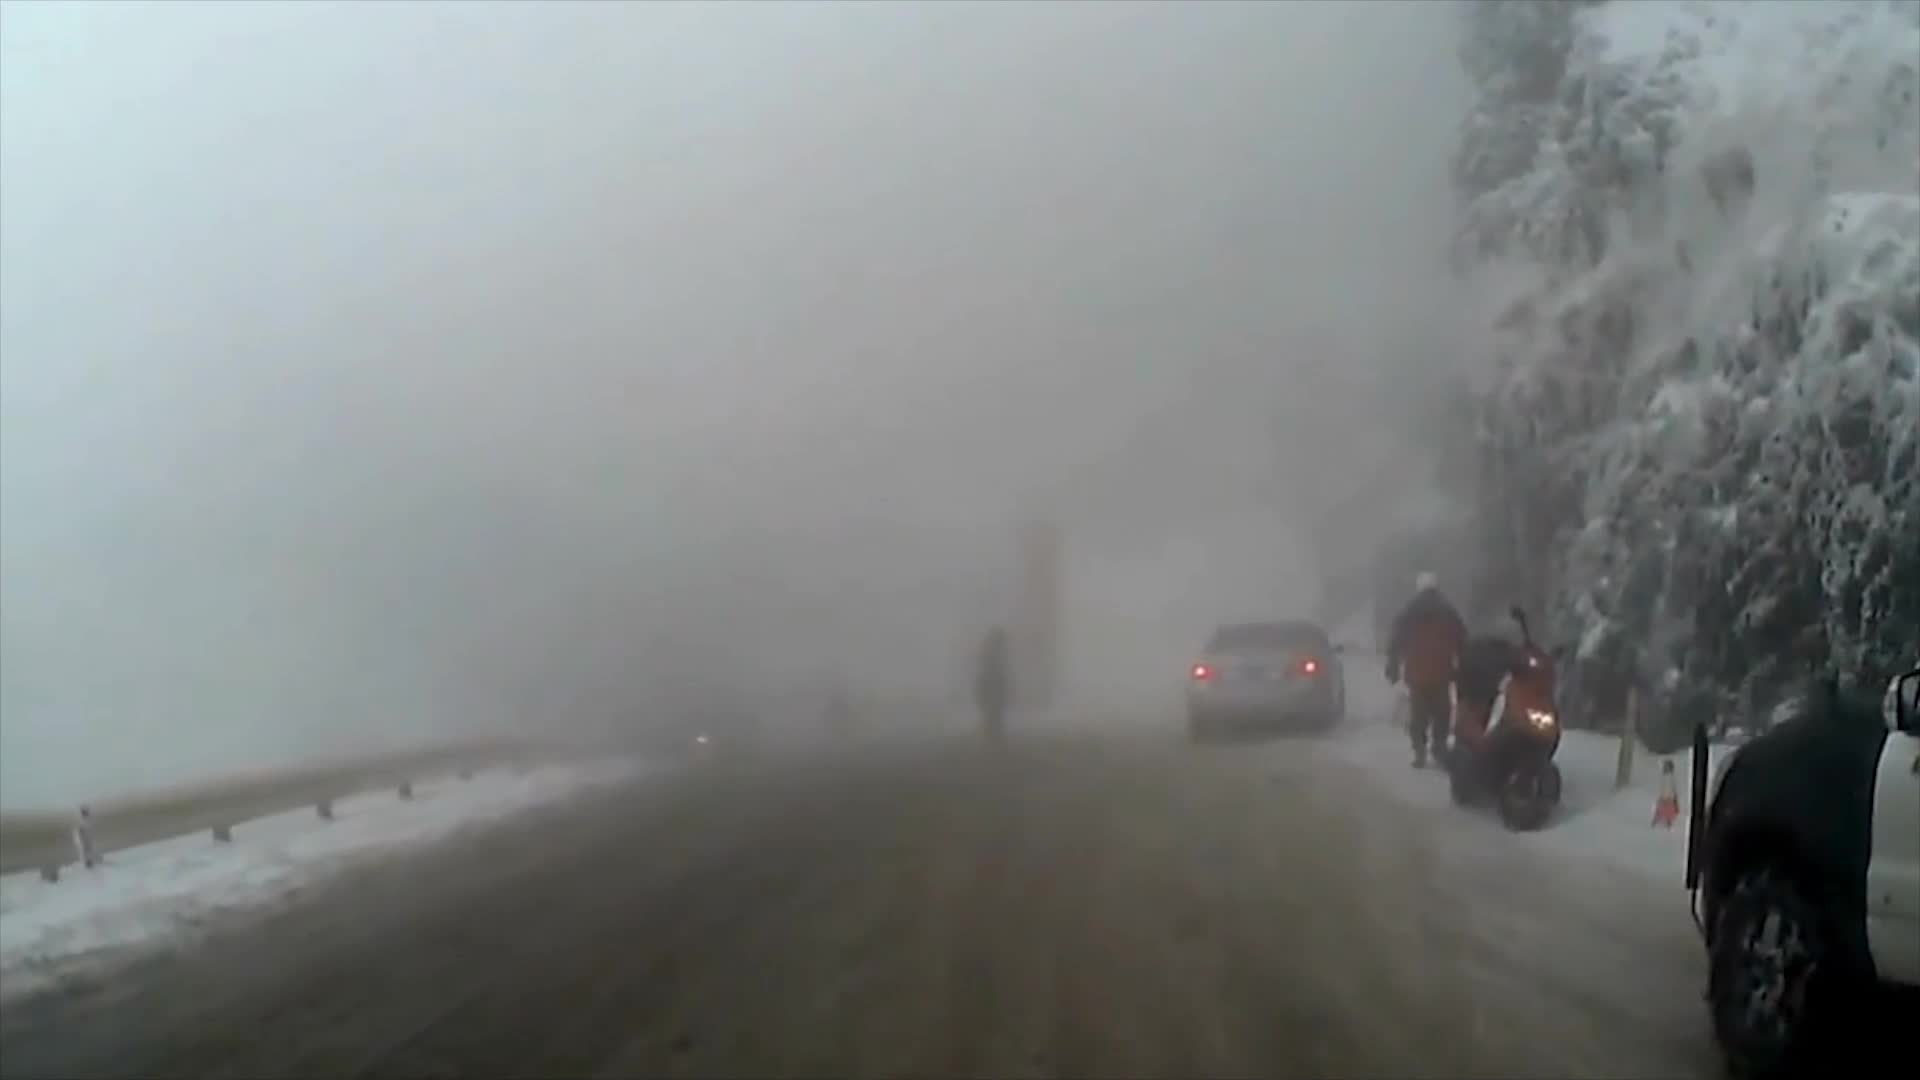pedestrian: (1383, 569, 1482, 775), (970, 634, 1010, 766)
vehicle: (1675, 578, 1918, 1079), (1179, 621, 1345, 749)
